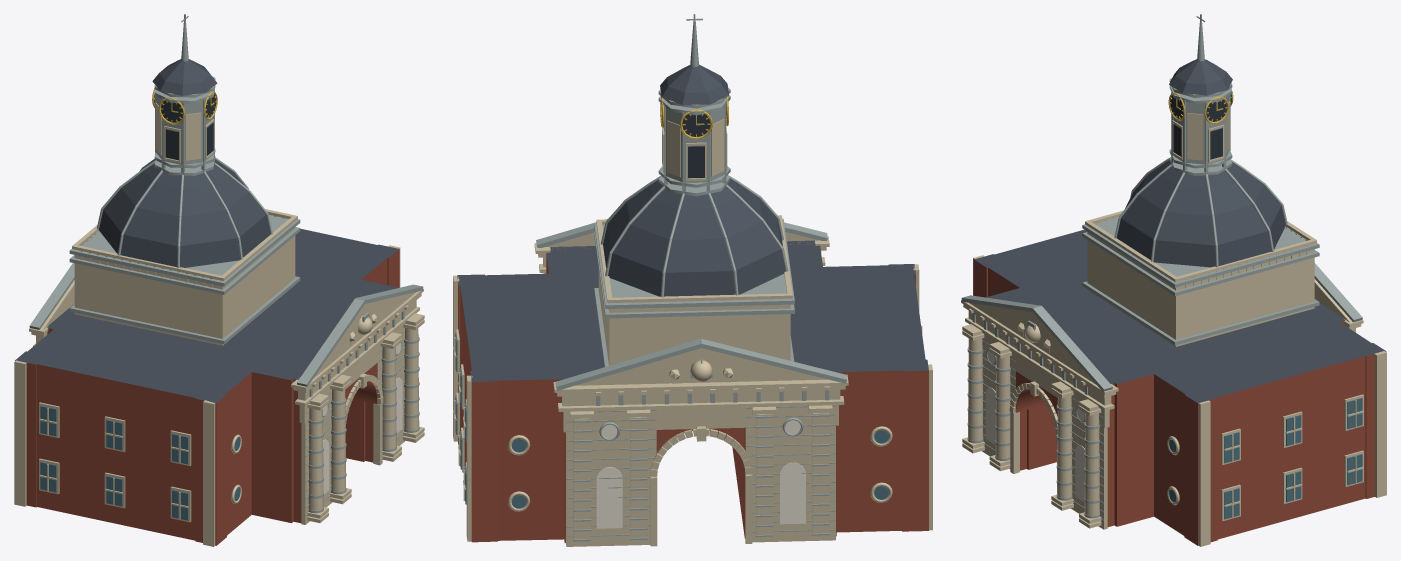
Rendered from muiderpoort.glb.
3 renders of one model, left to right at view 1: azimuth 30°, elevation 25°; view 2: azimuth 150°, elevation 25°; view 3: azimuth 270°, elevation 25°, orthographic. The views are drawn at different scales.
Visible parts, largest first — view 1: muiderpoort; view 2: muiderpoort; view 3: muiderpoort.
Part boxes in pixels (x1,y1,x2,y2): muiderpoort: (14, 14, 424, 546); muiderpoort: (453, 14, 932, 546); muiderpoort: (961, 14, 1386, 546).
Bounding box in the file's own units: 28.02 × 28.2 × 25.46.
